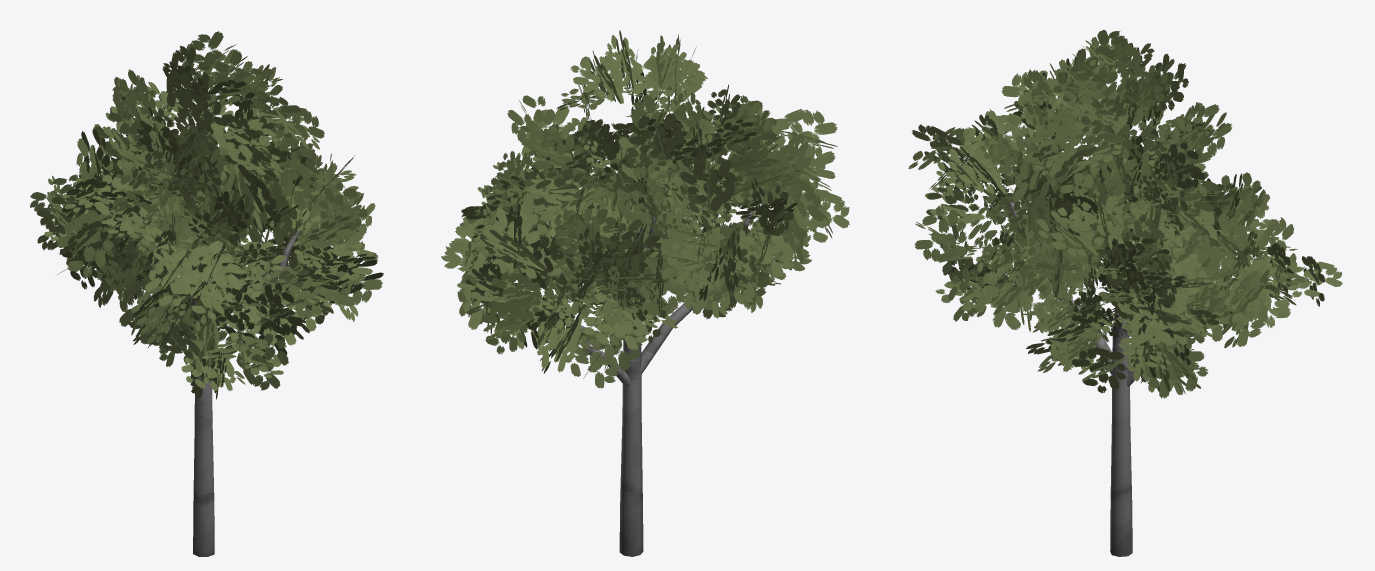
The model's file is stylizedGreen.glb.
3 views of the same model, side by side, from view 1: azimuth 30°, elevation 25°; view 2: azimuth 150°, elevation 25°; view 3: azimuth 270°, elevation 25° (orthographic).
Visible parts, largest first — view 1: treeGreen; view 2: treeGreen; view 3: treeGreen.
Part boxes in pixels (x1,y1,x2,y2): treeGreen: [30, 31, 383, 556]; treeGreen: [441, 30, 849, 556]; treeGreen: [908, 30, 1342, 556].
Bounding box in the file's own units: 4.27 × 6.17 × 4.9.
Materials: 2 (2 with a texture image).
